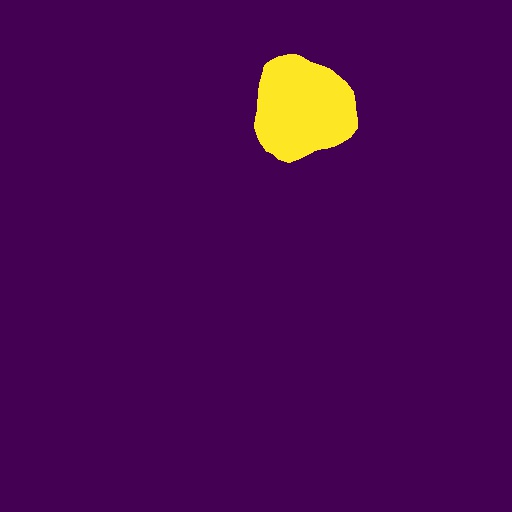Menigiomia_tumour: (254, 54, 358, 163)
